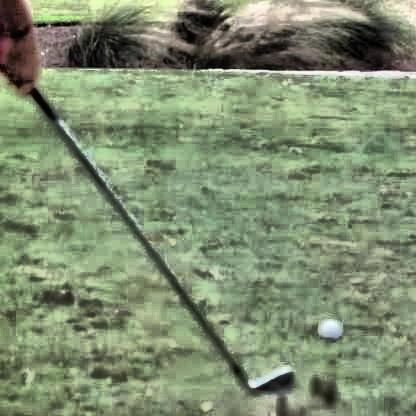golfball: (314, 315, 339, 339)
